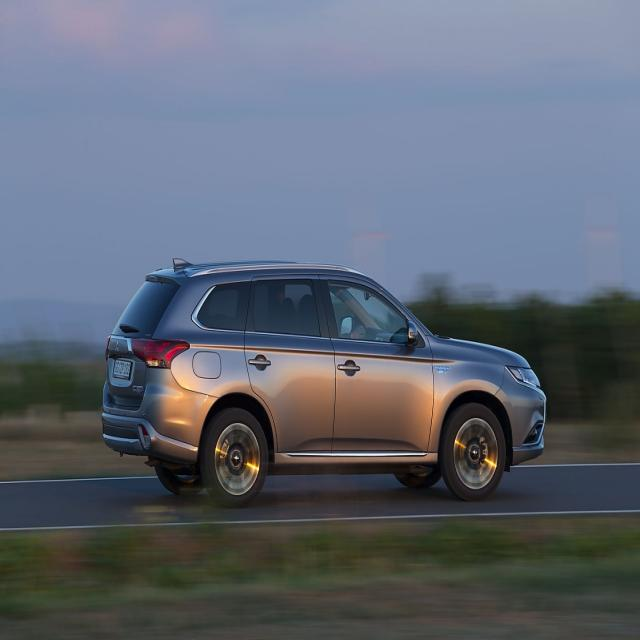light_vehicle: (101, 258, 546, 508)
